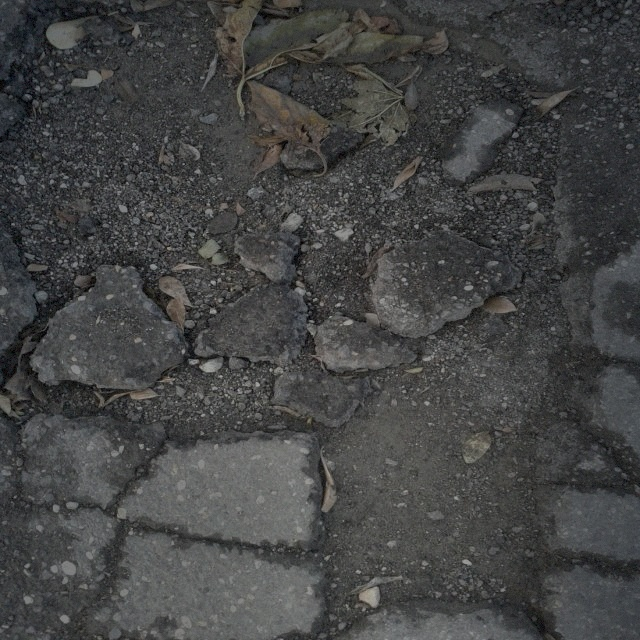pothole: (308, 316, 579, 616), (280, 140, 418, 304), (122, 334, 284, 442)
